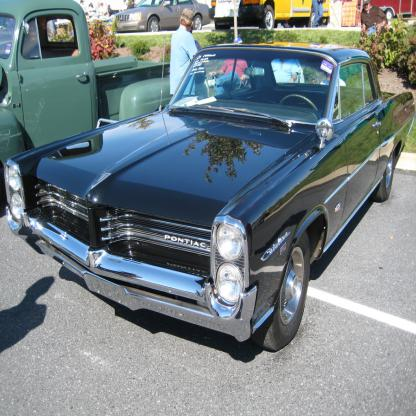Car: (2, 41, 416, 352), (208, 0, 329, 29), (112, 0, 209, 32), (370, 0, 415, 20)
